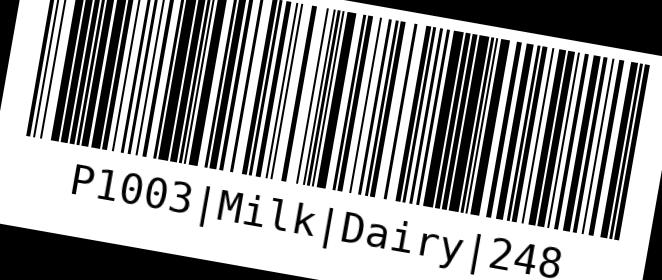milk: (8, 0, 660, 279)
